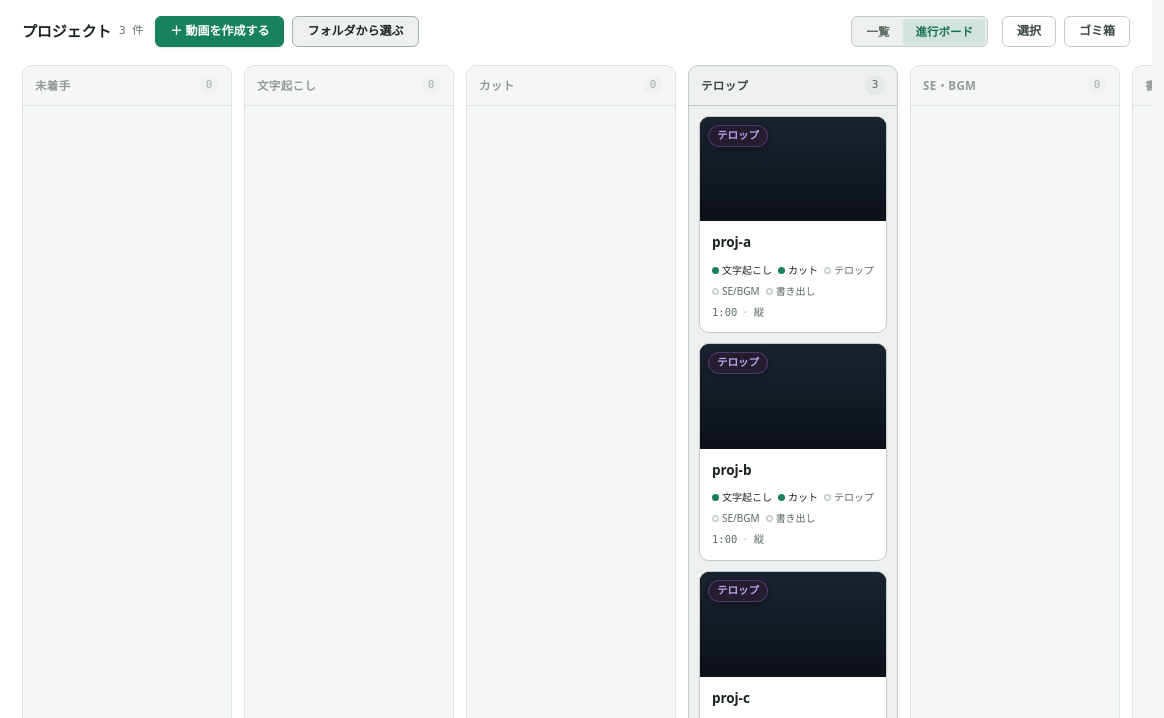
進行ボードの選択モード › 「選択」ボタンで選択モードに入り、カードにチェックボックスとアクションバーが出る
The width and height of the screenshot is (1164, 718).
Click the button "選択" at (1029, 32), box [1002,16,1056,47]
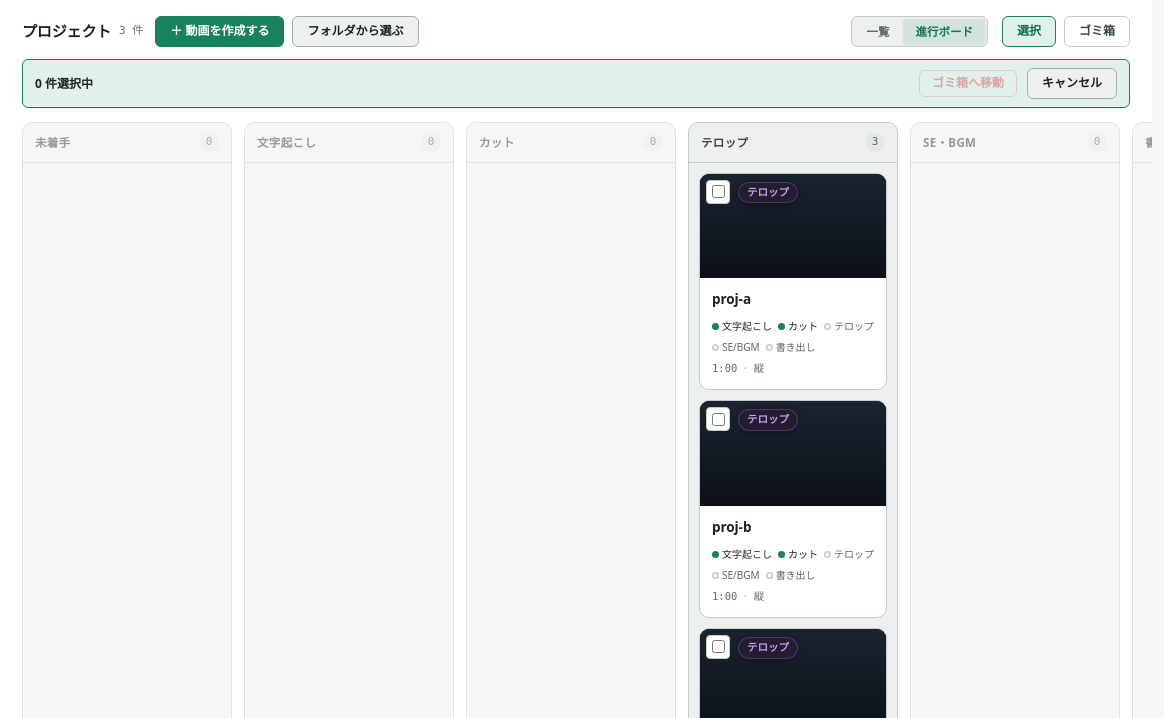
Expected: the message "0 件選択中 ゴミ箱へ移動 キャンセル" is shown, [22,59,1130,108]
Expected: the number of checkboxes is 3, [712,185,725,198]; [712,413,725,426]; [712,640,725,653]
